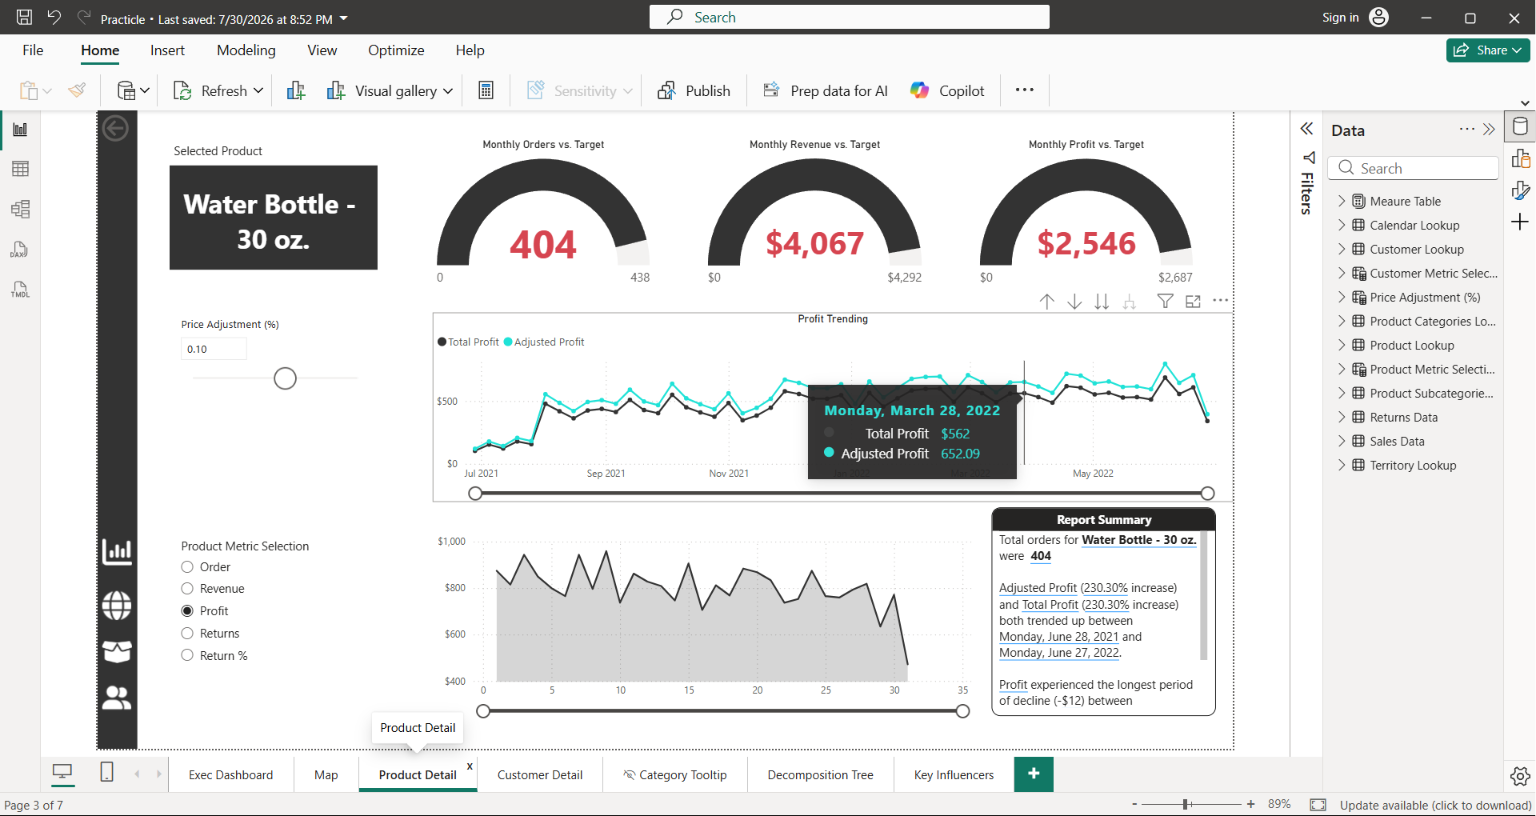

The page's visual inventory and layout, read from the dashboard file:
{"tool":"powerbi","page":{"name":"Product Detail","canvas":[1280,720],"ordinal":2},"visuals":[{"type":"shape","box":[0,0,45,720],"z":0},{"type":"actionButton","box":[1.2,476.7,44.4,42],"z":0,"group":"g1"},{"type":"gauge","title":"Monthly Orders vs. Target","fields":{"Y":["Meaure Table.Total Order"],"MaxValue":["Meaure Table.Order Target"]},"box":[377.9,31.4,250,180.2],"z":1000},{"type":"actionButton","box":[1.2,538,44.4,41],"z":1000,"group":"g1"},{"type":"gauge","title":"Monthly Revenue vs. Target","fields":{"Y":["Meaure Table.Total Revenue"],"MaxValue":["Meaure Table.Revenue Target"]},"box":[683.1,31.4,251.2,180.2],"z":2000},{"type":"actionButton","box":[1.2,589.4,44,42],"z":2000,"group":"g1"},{"type":"gauge","title":"Monthly Profit vs. Target","fields":{"Y":["Meaure Table.Total Profit"],"MaxValue":["Meaure Table.Profit Target"]},"box":[989.5,31.4,250,180.2],"z":3000},{"type":"actionButton","box":[1.2,641.2,44.4,41],"z":3000,"group":"g1"},{"type":"lineChart","title":"Profit Trending","fields":{"Category":["Calendar Lookup.Date Hierarchy.Start of Month","Calendar Lookup.Date Hierarchy.Start of Year","Calendar Lookup.Date Hierarchy.Start of Week","Calendar Lookup.Date Hierarchy.Date"],"Y":["Meaure Table.Total Profit","Meaure Table.Adjusted Profit"]},"box":[377.8,227.2,902.5,214.8],"z":4000},{"type":"areaChart","title":"Return Tr","fields":{"Y":["Meaure Table.Total Profit"],"Category":["Calendar Lookup.Date.Variation.Date Hierarchy.Year","Calendar Lookup.Date.Variation.Date Hierarchy.Quarter","Calendar Lookup.Date.Variation.Date Hierarchy.Month","Calendar Lookup.Date.Variation.Date Hierarchy.Day"]},"box":[377.5,472.5,612.5,215],"z":5000},{"type":"card","fields":{"Values":["Min(Product Lookup.ProductName)"]},"box":[81.7,62.4,234.1,117.7],"z":6000},{"type":"textbox","box":[81.7,31.2,121.3,31.2],"z":7000},{"type":"group","id":"g1","title":"Navigation Buttons","box":[1.2,476.7,44.2,205.8],"z":8000},{"type":"slicer","fields":{"Values":["Price Adjustment (%).Price Adjustment (%)"]},"box":[81.5,227.2,234.6,133.3],"z":9000},{"type":"slicer","fields":{"Values":["Product Metric Selection.Product Metric Selection"]},"box":[81.1,477,233.8,210.8],"z":10000},{"type":"actionButton","box":[0,0,100,40],"z":11000},{"type":"textbox","title":"Report Summary","box":[1007.5,447.5,252.5,235],"z":12000}]}

Visuals, with their boxes on the page's 1280x720 design canvas (x1, y1, x2, y2). These are canvas units, not pixel positions in the 1536x816 screenshot, which may show the page scaled, cropped or inside an application window:
shape: BBox(0, 0, 45, 720)
actionButton: BBox(1, 477, 46, 519)
"Monthly Orders vs. Target" gauge: BBox(378, 31, 628, 212)
actionButton: BBox(1, 538, 46, 579)
"Monthly Revenue vs. Target" gauge: BBox(683, 31, 934, 212)
actionButton: BBox(1, 589, 45, 631)
"Monthly Profit vs. Target" gauge: BBox(990, 31, 1240, 212)
actionButton: BBox(1, 641, 46, 682)
"Profit Trending" lineChart: BBox(378, 227, 1280, 442)
"Return Tr" areaChart: BBox(378, 472, 990, 688)
card - Min(Product Lookup.ProductName): BBox(82, 62, 316, 180)
textbox: BBox(82, 31, 203, 62)
"Navigation Buttons" group: BBox(1, 477, 45, 682)
slicer - Price Adjustment (%).Price Adjustment (%): BBox(82, 227, 316, 360)
slicer - Product Metric Selection.Product Metric Selection: BBox(81, 477, 315, 688)
actionButton: BBox(0, 0, 100, 40)
"Report Summary" textbox: BBox(1008, 448, 1260, 682)
